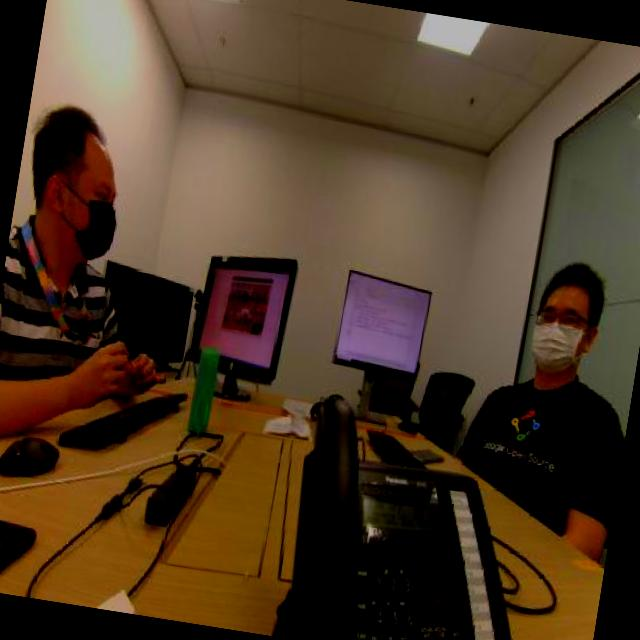Person: (0, 68, 175, 395), (477, 223, 640, 498)
